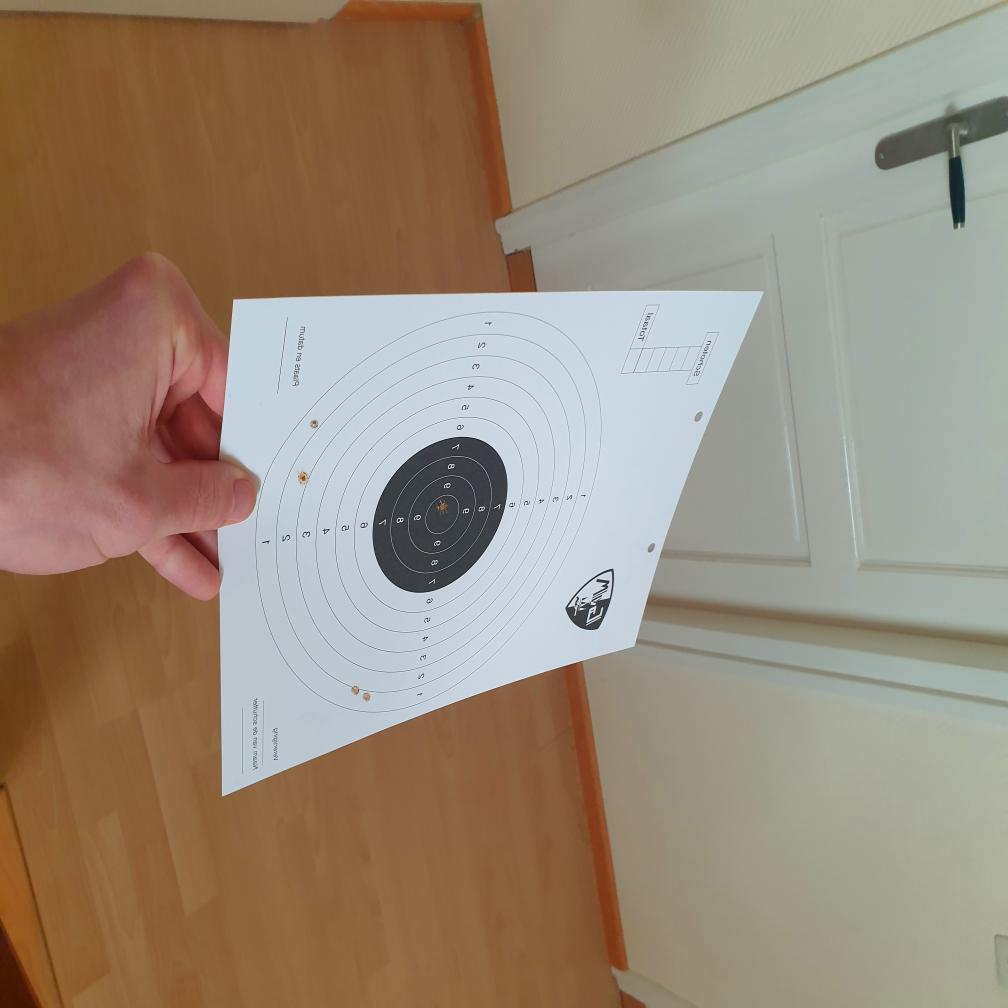1: (310, 418, 319, 430), (362, 691, 370, 702)
10: (436, 499, 449, 517)
2: (296, 467, 311, 486), (351, 683, 360, 697)
Target: (255, 310, 603, 712)
black_contour: (372, 434, 509, 594)
